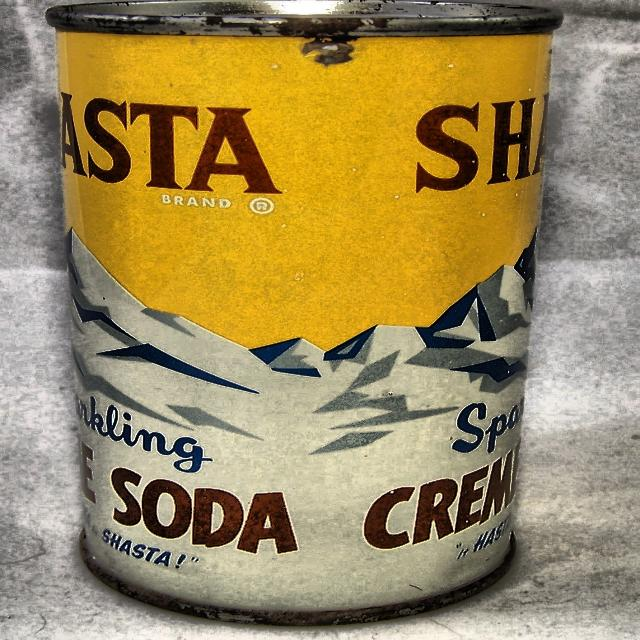Cans: (0, 0, 564, 625)
